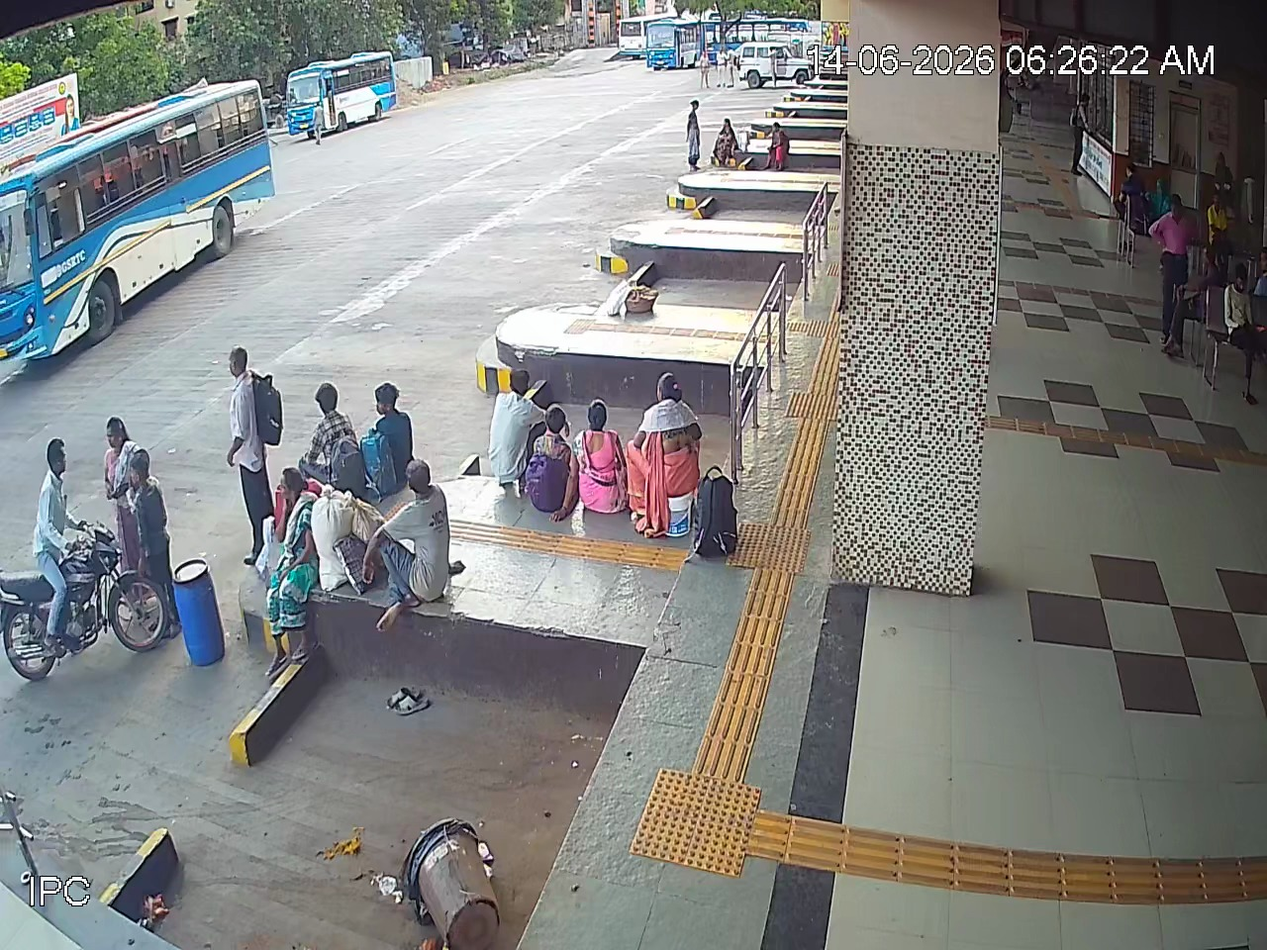bus: (2, 40, 292, 355), (282, 46, 400, 134)
pedestrian: (261, 440, 337, 692), (377, 449, 458, 604), (101, 420, 175, 588), (27, 430, 79, 653), (641, 365, 702, 539), (114, 437, 178, 594), (219, 339, 270, 524), (96, 408, 148, 577), (1150, 180, 1197, 354), (483, 360, 538, 494), (575, 394, 626, 519), (363, 375, 415, 484), (531, 399, 573, 517), (308, 376, 354, 464)
